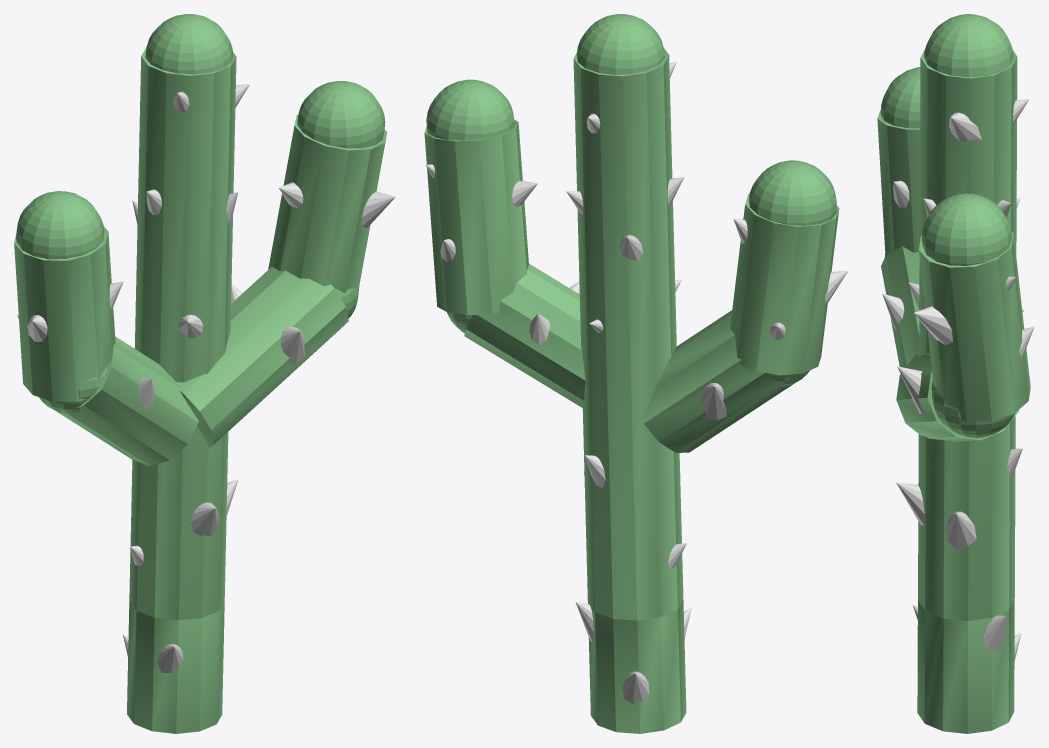
File: Cactus.fbx
The picture shows the model from 3 angles, left to right: view 1: azimuth 30°, elevation 25°; view 2: azimuth 150°, elevation 25°; view 3: azimuth 270°, elevation 25°; orthographic projection.
Parts seen in each view (by area): view 1: default; view 2: default; view 3: default.
Boxes of the visible parts, x1,y1,x2,y2 form: default: [14, 14, 395, 733]; default: [424, 14, 847, 733]; default: [877, 14, 1034, 733].
Bounding box in the file's own units: 185 × 320 × 64.9.
